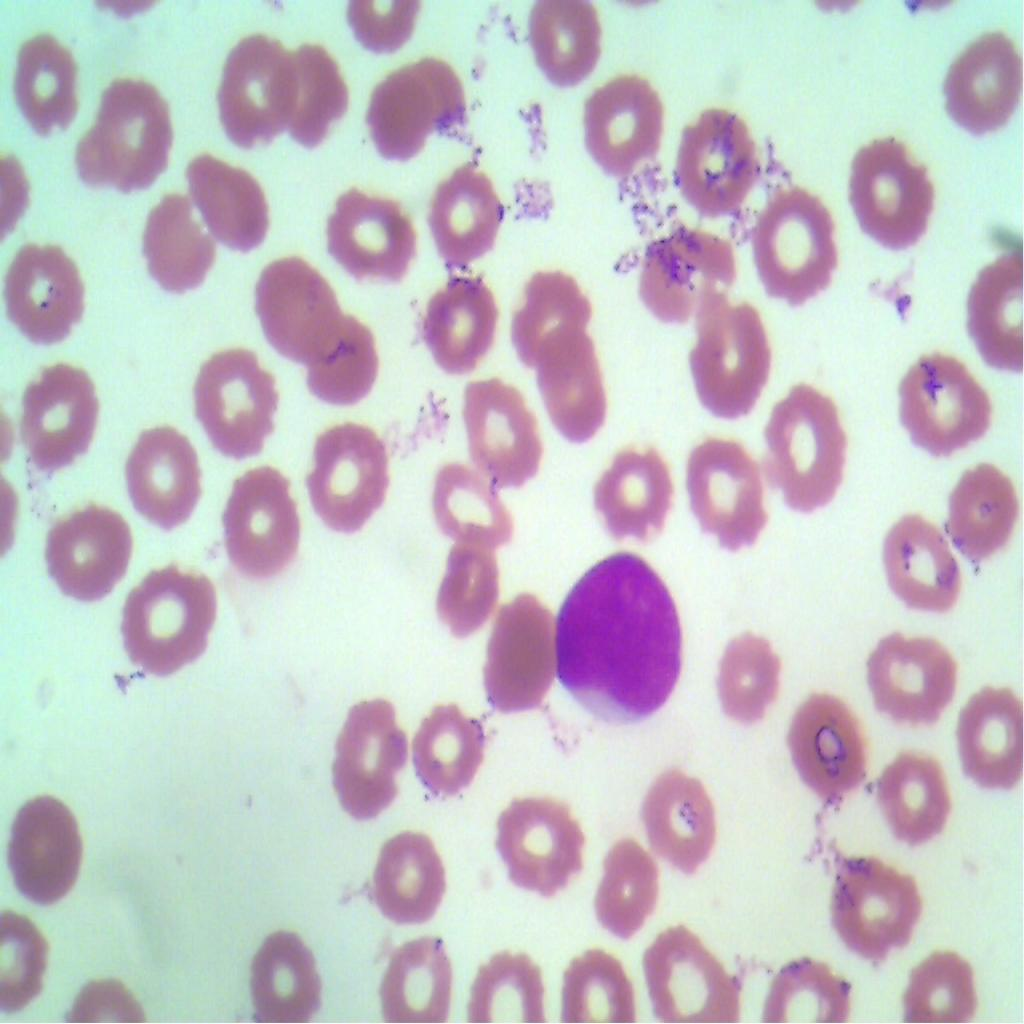Eritrosit: (880, 338, 998, 467), (569, 74, 683, 200), (482, 767, 594, 895), (758, 378, 853, 520), (481, 584, 569, 732), (783, 687, 884, 814), (748, 181, 844, 314), (328, 682, 413, 831), (70, 65, 181, 178), (938, 8, 1024, 150), (121, 565, 221, 687), (868, 509, 971, 627), (686, 298, 778, 428), (303, 401, 389, 539), (846, 124, 936, 252), (815, 848, 915, 962), (643, 915, 748, 1023), (851, 619, 959, 724), (238, 909, 336, 1023), (682, 431, 775, 551), (193, 351, 283, 475), (208, 24, 302, 142), (0, 230, 93, 348), (6, 358, 101, 472), (6, 784, 88, 915), (635, 218, 741, 319), (251, 260, 344, 374), (3, 18, 89, 141), (504, 260, 595, 376), (331, 174, 426, 285), (868, 734, 955, 855), (219, 470, 311, 584), (453, 365, 544, 479), (361, 924, 463, 1023), (298, 314, 389, 424), (43, 498, 131, 611), (373, 54, 459, 168), (588, 434, 682, 538), (181, 153, 276, 254), (704, 611, 783, 728), (536, 324, 613, 444), (123, 434, 213, 536), (668, 112, 758, 211), (272, 40, 350, 154), (138, 192, 216, 305), (946, 680, 1023, 794), (419, 268, 504, 371), (641, 764, 719, 874), (423, 157, 511, 252), (893, 935, 983, 1023), (414, 694, 486, 804), (515, 0, 606, 85), (422, 468, 510, 554), (558, 935, 644, 1023), (369, 815, 446, 912), (942, 451, 1012, 554), (594, 832, 658, 932), (766, 950, 852, 1023), (468, 939, 542, 1023), (433, 541, 498, 631), (0, 914, 54, 1015)
Limfoblast: (551, 551, 683, 735)
Platelet: (882, 278, 926, 328)
